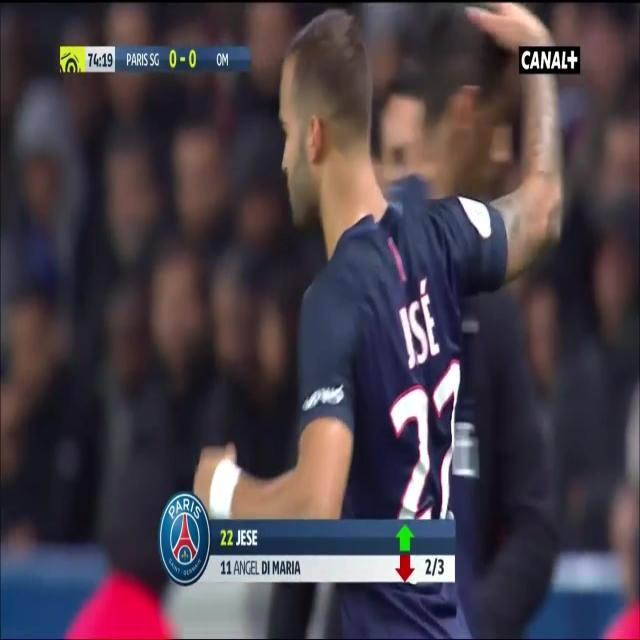Player: (191, 0, 567, 640)
